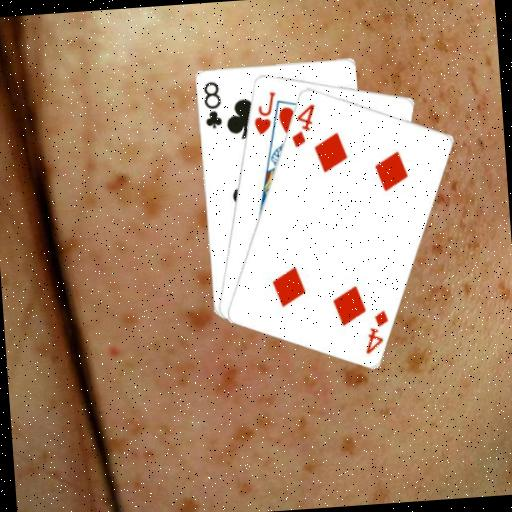4D: (285, 100, 319, 149), (360, 307, 393, 356)
8C: (199, 78, 224, 130)
JH: (249, 88, 280, 137)
